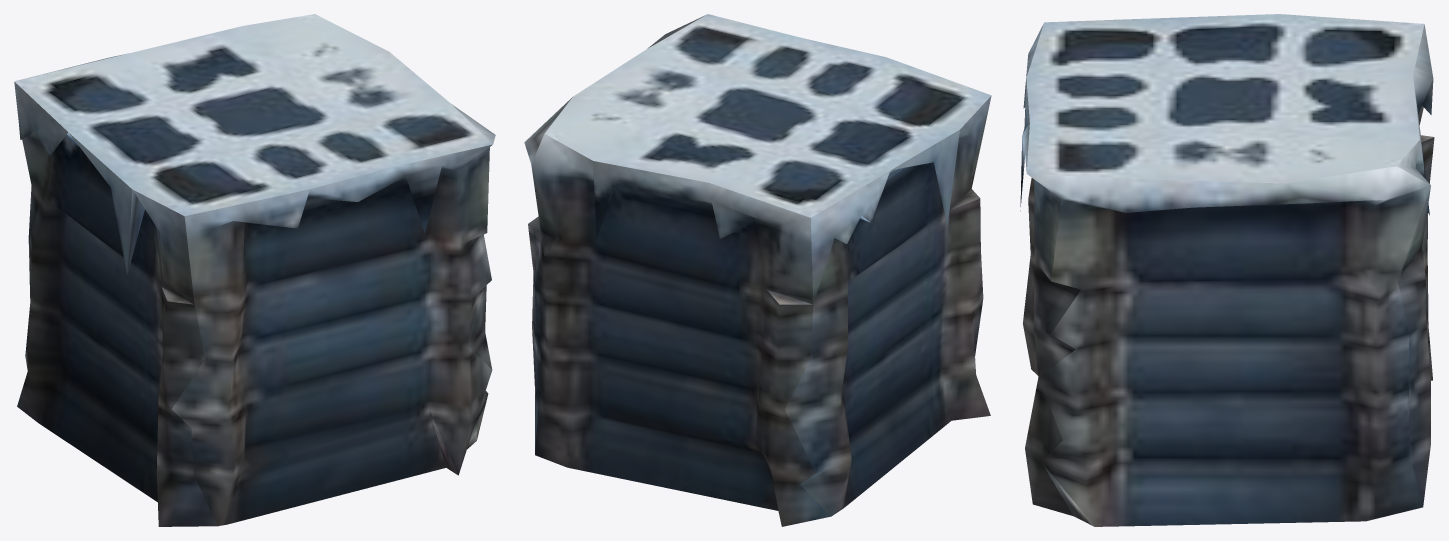
The model's file is b_givre_mur_3.glb.
3 views of the same model, side by side, from view 1: azimuth 30°, elevation 25°; view 2: azimuth 150°, elevation 25°; view 3: azimuth 270°, elevation 25° (orthographic). The views are drawn at different scales.
Parts seen in each view (by area): view 1: geometry_0; view 2: geometry_0; view 3: geometry_0.
Part boxes in pixels (x1=…): geometry_0: x1=14, y1=14, x2=495, y2=526; geometry_0: x1=524, y1=14, x2=991, y2=526; geometry_0: x1=1020, y1=14, x2=1434, y2=526.
Size of the model in its own units: 1 by 0.9713 by 1.
1 material, 1 textured.
